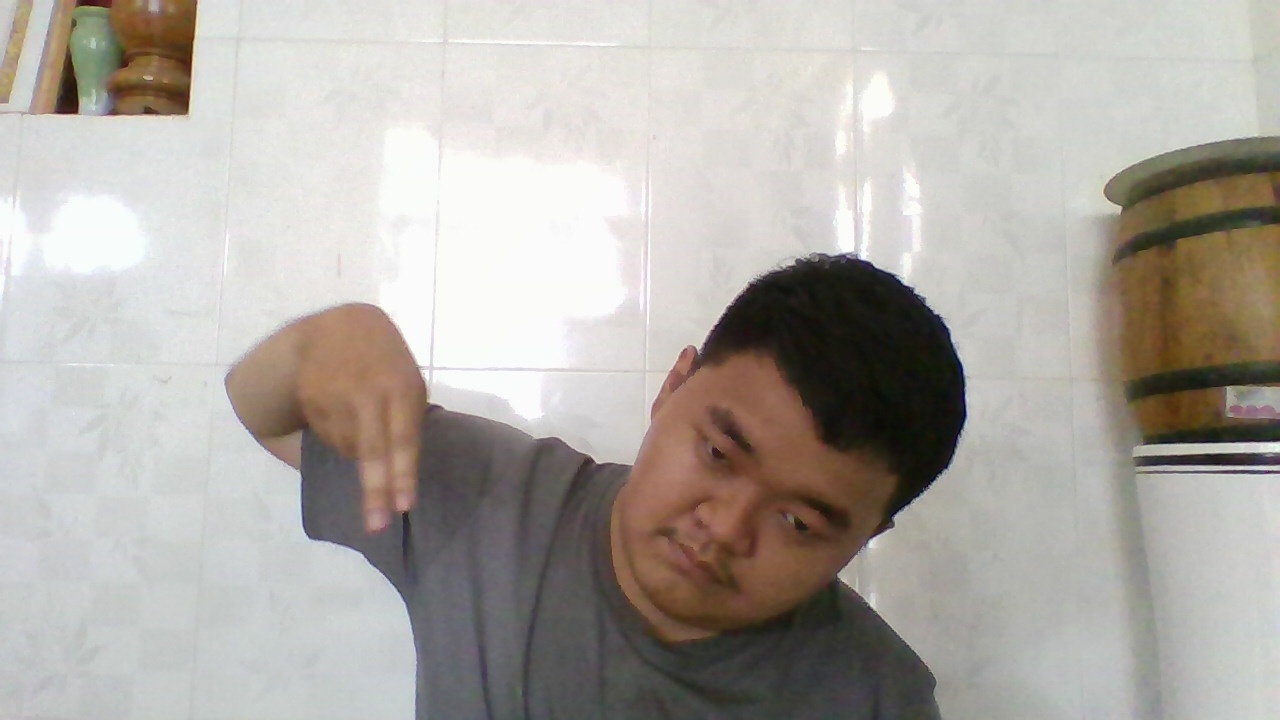N: (289, 297, 422, 542)
